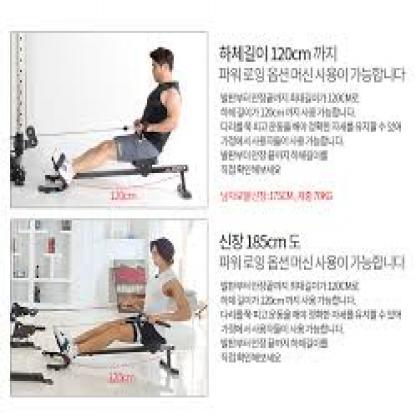Seated Cable Rows: (11, 224, 208, 391), (10, 32, 194, 205)
